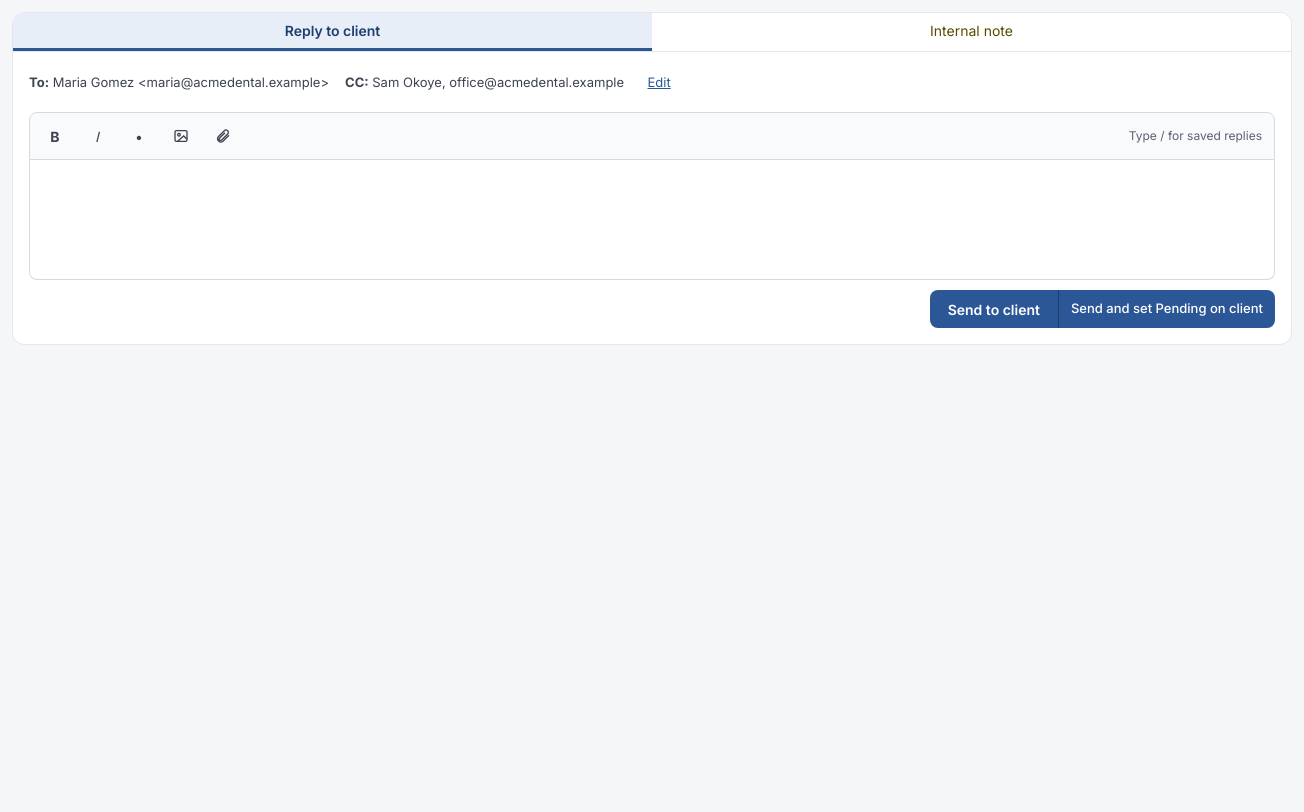
Reply CC line and editor (ADR-035) › confirms a pending participant from an email
Click the button with aria-label "Edit CC" at (659, 83), box [640,64,678,102]
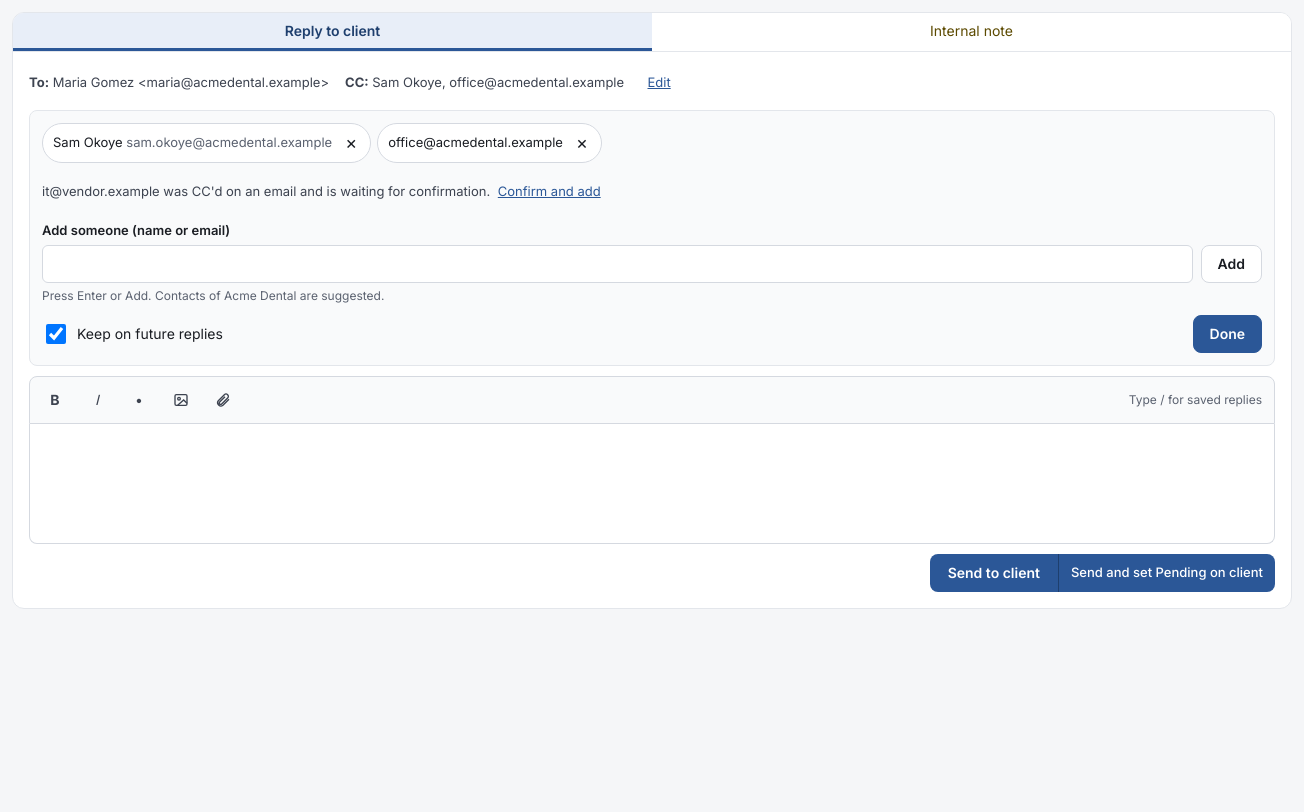
Click the button with aria-label "Confirm and add it@vendor.example" at (549, 192), box [494,173,605,211]
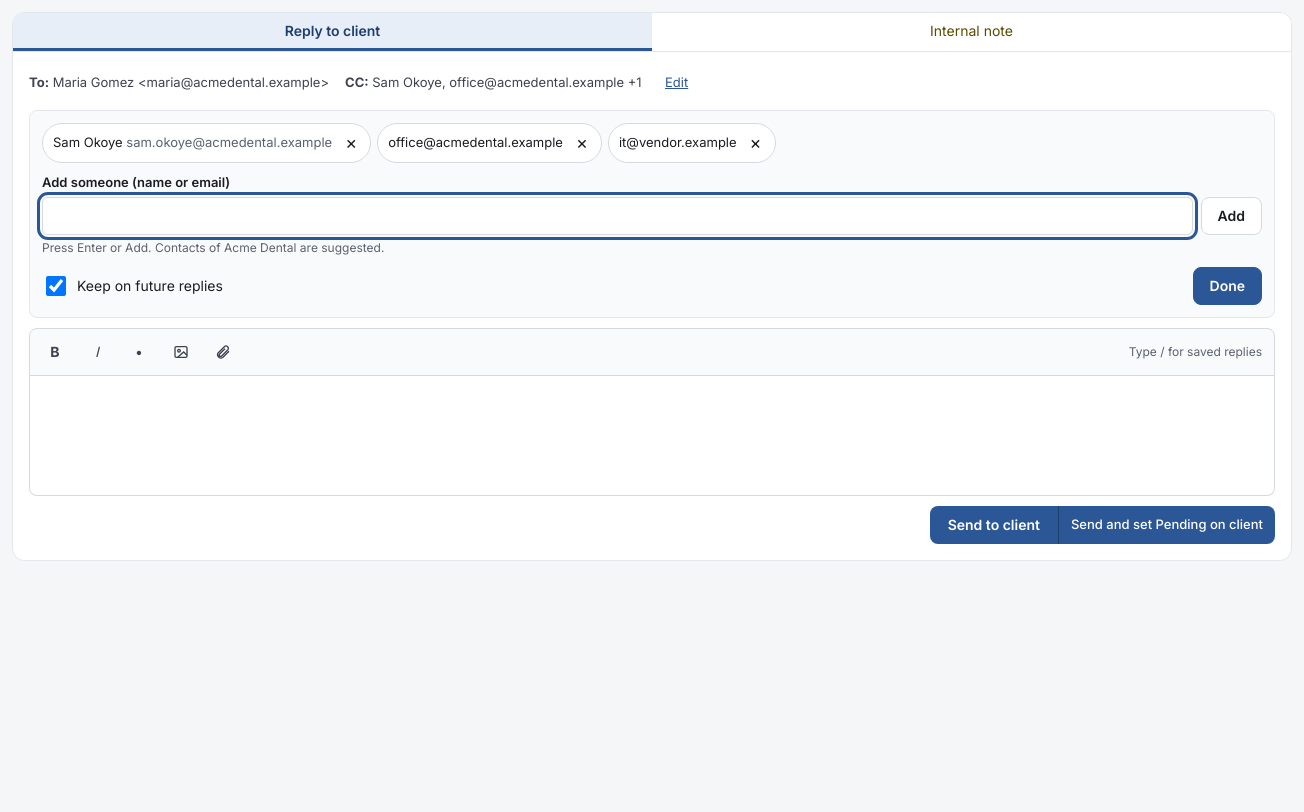
Now the button named "Remove it@vendor.example" is shown, box [737,124,775,162]
